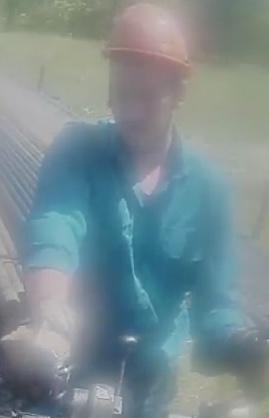gloves: (1, 287, 81, 388), (219, 316, 269, 412)
helmet: (104, 3, 193, 71)
vest: (13, 118, 240, 354)
